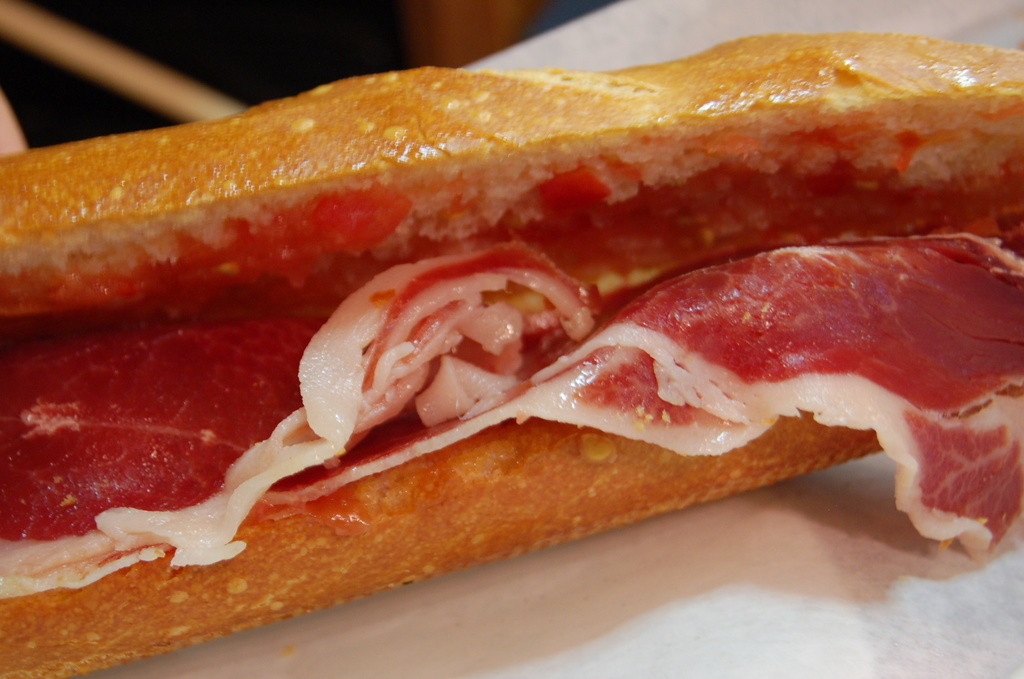sandwich: (0, 31, 1023, 678)
